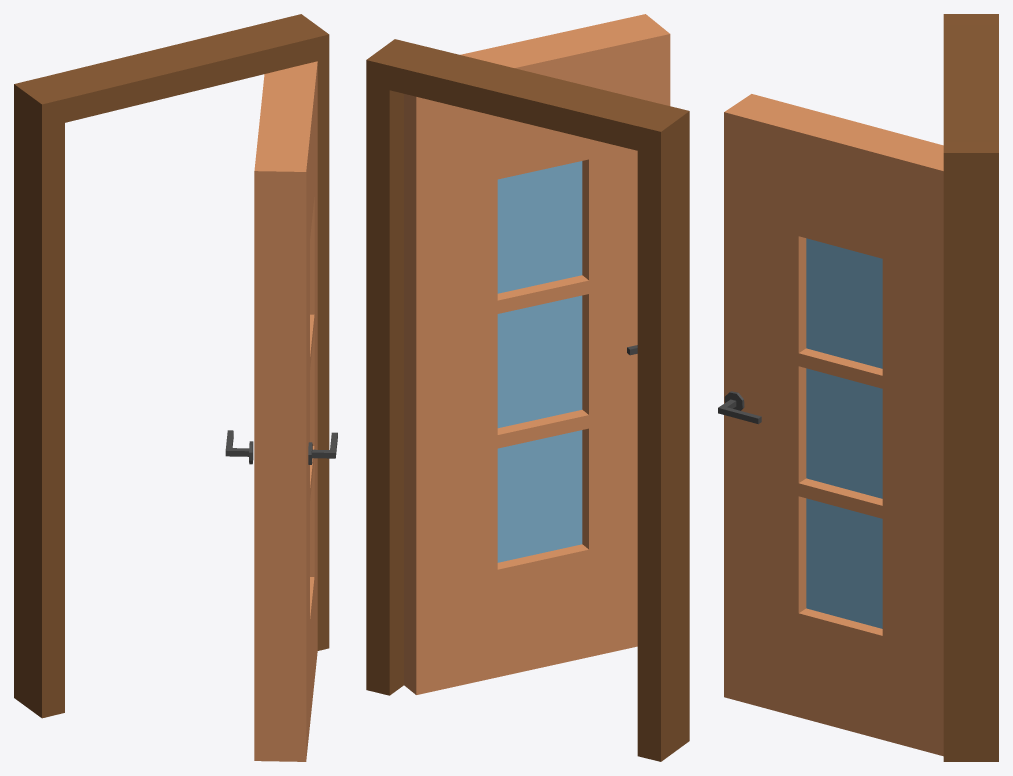
The model's file is porte2.fbx.
The picture shows the model from 3 angles, left to right: view 1: azimuth 30°, elevation 25°; view 2: azimuth 150°, elevation 25°; view 3: azimuth 270°, elevation 25°; orthographic projection. The views are drawn at different scales.
Visible parts, largest first — view 1: Cube.004; view 2: Cube.004; view 3: Cube.004.
Boxes of the visible parts, x1,y1,x2,y2 form: Cube.004: [14, 14, 337, 761]; Cube.004: [366, 14, 689, 761]; Cube.004: [718, 14, 998, 761].
Bounding box in the file's own units: 357 × 728 × 305.
